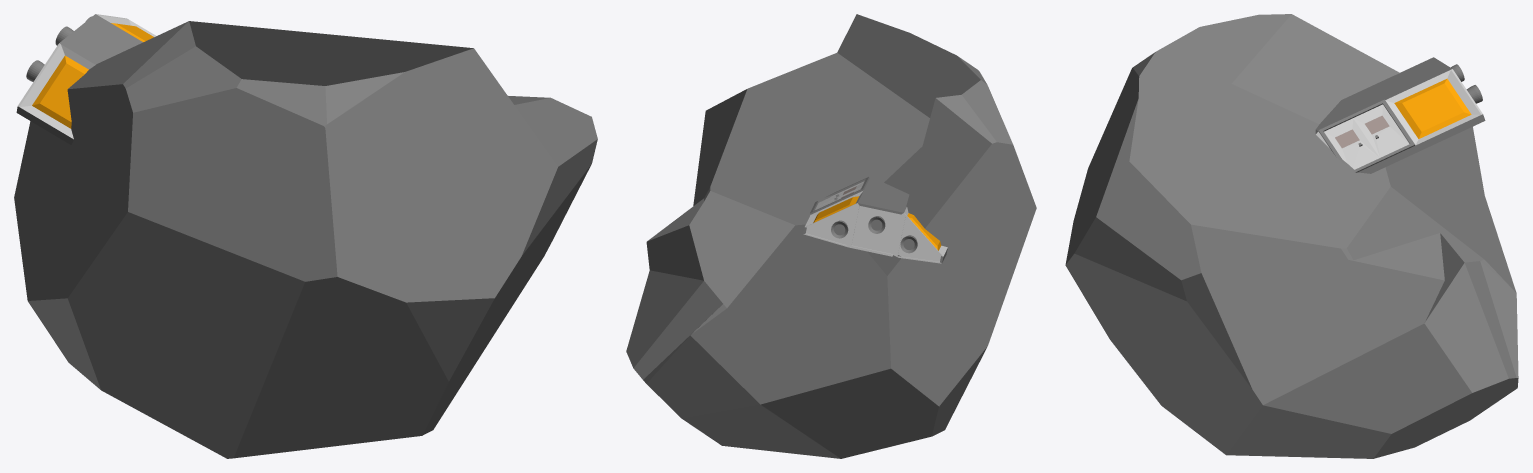
Rendered from Asteroid.fbx.
3 renders of one model, left to right at view 1: azimuth 30°, elevation 25°; view 2: azimuth 150°, elevation 25°; view 3: azimuth 270°, elevation 25°, orthographic. The views are drawn at different scales.
Parts seen in each view (by area): view 1: Asteroid, Ship; view 2: Asteroid, Ship; view 3: Asteroid, Ship.
Boxes of the visible parts, box(x1,y1,x2,y2) form: Asteroid: box(14, 21, 597, 458); Ship: box(16, 14, 156, 144); Asteroid: box(626, 14, 1036, 458); Ship: box(803, 177, 947, 263); Asteroid: box(1065, 14, 1518, 458); Ship: box(1315, 57, 1485, 173).
Bounding box in the file's own units: 2254 × 2227 × 2394.
Materials: 2 (2 with a texture image).
